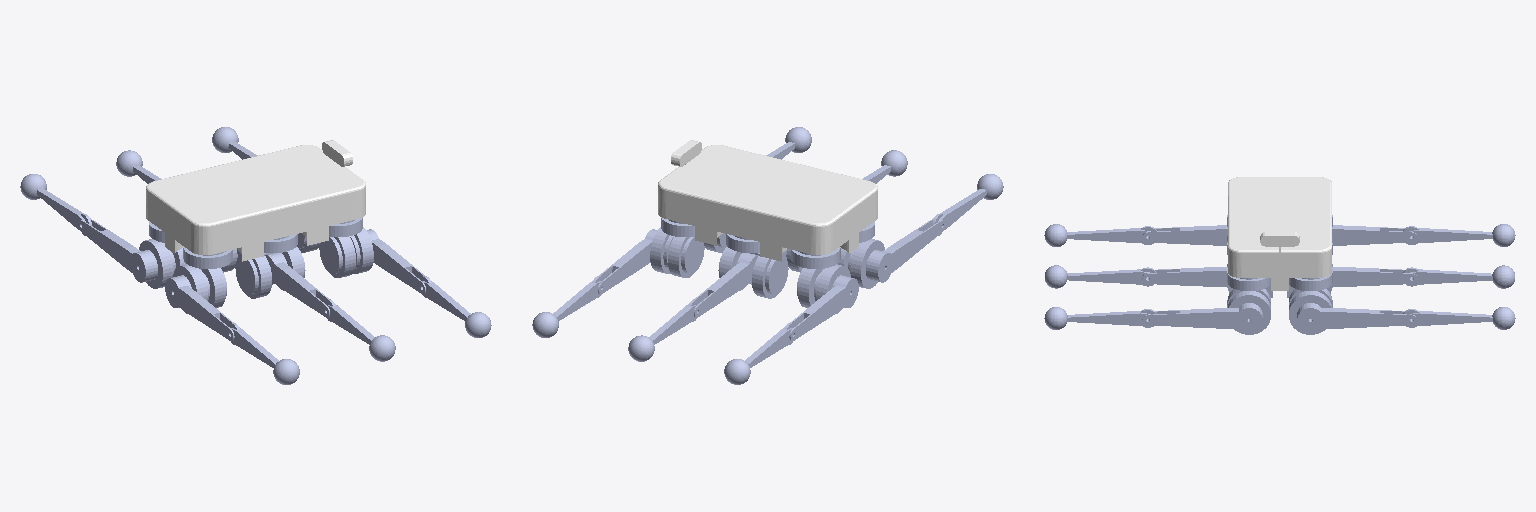
--- Facts derived from the render (not from the file) ---
The picture shows the robot from 3 angles, left to right: view 1: azimuth 30°, elevation 25°; view 2: azimuth 150°, elevation 25°; view 3: azimuth 270°, elevation 25°; orthographic projection.
Robot: hexapod_description2 — 19 links, 18 joints (18 continuous); root link base_link; default pose: all joints at 0.
Visible links, largest first — view 1: base_link, rfl2, rml8, rbl14, lbl17, rbl15, rml9, rfl3, lbl18, lfl6, lml12, rbl13; view 2: base_link, lfl5, lml11, lbl17, rbl14, lfl6, lml12, lbl18, rbl15, rml9, rfl3, lbl16; view 3: base_link, rfl2, lfl5, rml8, lml11, rbl14, lbl17, lml12, rml9, rbl15, lbl18, rfl3 (+1 smaller).
Link boxes in pixels (x1=…): base_link: x1=146, y1=140, x2=365, y2=261; rfl2: x1=319, y1=227, x2=425, y2=293; rml8: x1=235, y1=247, x2=335, y2=317; rbl14: x1=165, y1=264, x2=239, y2=340; lbl17: x1=78, y1=218, x2=185, y2=288; rbl15: x1=228, y1=323, x2=299, y2=384; rml9: x1=324, y1=299, x2=395, y2=361; rfl3: x1=420, y1=276, x2=491, y2=337; lbl18: x1=20, y1=174, x2=91, y2=235; lfl6: x1=212, y1=127, x2=257, y2=159; lml12: x1=116, y1=150, x2=160, y2=183; rbl13: x1=183, y1=247, x2=232, y2=268; base_link: x1=658, y1=140, x2=877, y2=261; lfl5: x1=598, y1=227, x2=704, y2=293; lml11: x1=688, y1=247, x2=788, y2=317; lbl17: x1=784, y1=264, x2=858, y2=340; rbl14: x1=838, y1=218, x2=945, y2=288; lfl6: x1=532, y1=276, x2=603, y2=337; lml12: x1=628, y1=299, x2=699, y2=361; lbl18: x1=724, y1=323, x2=795, y2=384; rbl15: x1=932, y1=174, x2=1003, y2=235; rml9: x1=863, y1=150, x2=907, y2=183; rfl3: x1=766, y1=127, x2=811, y2=159; lbl16: x1=791, y1=247, x2=840, y2=268; base_link: x1=1228, y1=177, x2=1331, y2=290; rfl2: x1=1142, y1=289, x2=1270, y2=334; lfl5: x1=1289, y1=289, x2=1417, y2=334; rml8: x1=1142, y1=264, x2=1272, y2=297; lml11: x1=1287, y1=264, x2=1417, y2=297; rbl14: x1=1142, y1=225, x2=1227, y2=245; lbl17: x1=1332, y1=225, x2=1417, y2=245; lml12: x1=1403, y1=265, x2=1514, y2=288; rml9: x1=1045, y1=265, x2=1156, y2=288; rbl15: x1=1044, y1=224, x2=1156, y2=246; lbl18: x1=1403, y1=224, x2=1515, y2=246; rfl3: x1=1044, y1=307, x2=1156, y2=329.
Bounding box of the posed robot: 0.4681 × 1 × 0.2315 m (x, y, z).
Meshes: 19 distinct files referenced, 19 mesh visuals loaded (19 binary STL).

URDF robot description (hexapod_description2):
<?xml version="1.0" encoding="utf-8"?>
<!-- This URDF was automatically created by SolidWorks to URDF Exporter! Originally created by Stephen Brawner ([email redacted]) 
     Commit Version: 1.6.0-4-g7f85cfe  Build Version: 1.6.7995.38578
     For more information, please see http://wiki.ros.org/sw_urdf_exporter -->
<robot
  name="hexapod_description2">
  <link
    name="base_link">
    <inertial>
      <origin
        xyz="0.0012365 5.5511E-17 0.028671"
        rpy="0 0 0" />
      <mass
        value="16" />
      <inertia
        ixx="1"
        ixy="0"
        ixz="0"
        iyy="1"
        iyz="0"
        izz="1" />
    </inertial>

    <visual>
      <origin
        xyz="0 0 0"
        rpy="0 0 0" />
      <geometry>
        <mesh
          filename="package://hexapod_description2/meshes/base_link.STL" />
      </geometry>
      <material
        name="">
        <color
          rgba="1 1 1 1" />
      </material>
    </visual>
    <collision>
      <origin
        xyz="0 0 0"
        rpy="0 0 0" />
      <geometry>
        <mesh
          filename="package://hexapod_description2/meshes/base_link.STL" />
      </geometry>
    </collision>
  </link>
  <link
    name="rfl1">
    <inertial>
      <origin
        xyz="0 0 0.0013145"
        rpy="0 0 0" />
      <mass
        value="0.1" />
      <inertia
        ixx="0.1"
        ixy="0"
        ixz="0"
        iyy="0.1"
        iyz="0"
        izz="0.1" />
    </inertial>
    <visual>
      <origin
        xyz="0 0 0"
        rpy="0 0 0" />
      <geometry>
        <mesh
          filename="package://hexapod_description2/meshes/rfl1.STL" />
      </geometry>
      <material
        name="">
        <color
          rgba="0.79216 0.81961 0.93333 1" />
      </material>
    </visual>
    <collision>
      <origin
        xyz="0 0 0"
        rpy="0 0 0" />
      <geometry>
        <mesh
          filename="package://hexapod_description2/meshes/rfl1.STL" />
      </geometry>
    </collision>
  </link>
  <joint
    name="rfj1"
    type="continuous">
    <origin
      xyz="0.14185 -0.0655 -0.01975"
      rpy="0 0 0" />
    <parent
      link="base_link" />
    <child
      link="rfl1" />
    <axis
      xyz="0 0 -1" />
                            <limit
      lower="-6"
      upper="6"
      effort="100"
      velocity="10" />
                 <dynamics
      damping="0.1"
       friction="0.01"
    />
  </joint>
  <link
    name="rfl2">
    <inertial>
      <origin
        xyz="-0.032218 -0.0039271 6.5321E-07"
        rpy="0 0 0" />
      <mass
        value="0.1" />
      <inertia
        ixx="0.1"
        ixy="0"
        ixz="0"
        iyy="0.1"
        iyz="0"
        izz="0.1" />
    </inertial>
    <visual>
      <origin
        xyz="0 0 0"
        rpy="0 0 0" />
      <geometry>
        <mesh
          filename="package://hexapod_description2/meshes/rfl2.STL" />
      </geometry>
      <material
        name="">
        <color
          rgba="0.79216 0.81961 0.93333 1" />
      </material>
    </visual>
    <collision>
      <origin
        xyz="0 0 0"
        rpy="0 0 0" />
      <geometry>
        <mesh
          filename="package://hexapod_description2/meshes/rfl2.STL" />
      </geometry>
    </collision>
  </link>
  <joint
    name="rfj2"
    type="continuous">
    <origin
      xyz="0.0385 0 -0.06575"
      rpy="0 0 0" />
    <parent
      link="rfl1" />
    <child
      link="rfl2" />
    <axis
      xyz="-1 0 0" />
                            <limit
      lower="-6"
      upper="6"
      effort="100"
      velocity="10" />
                 <dynamics
      damping="0.1"
       friction="0.01"
    />
  </joint>
  <link
    name="rfl3">
    <inertial>
      <origin
        xyz="-5.5511E-17 -0.13449 -2.7756E-17"
        rpy="0 0 0" />
      <mass
        value="0.1" />
      <inertia
        ixx="0.1"
        ixy="0"
        ixz="0"
        iyy="0.1"
        iyz="0"
        izz="0.1" />
    </inertial>
    <visual>
      <origin
        xyz="0 0 0"
        rpy="0 0 0" />
      <geometry>
        <mesh
          filename="package://hexapod_description2/meshes/rfl3.STL" />
      </geometry>
      <material
        name="">
        <color
          rgba="0.79216 0.81961 0.93333 1" />
      </material>
    </visual>
    <collision>
      <origin
        xyz="0 0 0"
        rpy="0 0 0" />
      <geometry>
        <mesh
          filename="package://hexapod_description2/meshes/rfl3.STL" />
      </geometry>
    </collision>
  </link>
  <joint
    name="rfj3"
    type="continuous">
    <origin
      xyz="0.02875 -0.216 0"
      rpy="0 0 0" />
    <parent
      link="rfl2" />
    <child
      link="rfl3" />
    <axis
      xyz="1 0 0" />
                            <limit
      lower="-6"
      upper="6"
      effort="100"
      velocity="10" />
                 <dynamics
      damping="0.1"
       friction="0.01"
    />
  </joint>
  <link
    name="lfl4">
    <inertial>
      <origin
        xyz="0 2.7756E-17 0.0013145"
        rpy="0 0 0" />
      <mass
        value="0.1" />
      <inertia
        ixx="0.1"
        ixy="0"
        ixz="0"
        iyy="0.1"
        iyz="0"
        izz="0.1" />
    </inertial>
    <visual>
      <origin
        xyz="0 0 0"
        rpy="0 0 0" />
      <geometry>
        <mesh
          filename="package://hexapod_description2/meshes/lfl4.STL" />
      </geometry>
      <material
        name="">
        <color
          rgba="0.79216 0.81961 0.93333 1" />
      </material>
    </visual>
    <collision>
      <origin
        xyz="0 0 0"
        rpy="0 0 0" />
      <geometry>
        <mesh
          filename="package://hexapod_description2/meshes/lfl4.STL" />
      </geometry>
    </collision>
  </link>
  <joint
    name="lfj4"
    type="continuous">
    <origin
      xyz="0.14185 0.0655 -0.01975"
      rpy="0 0 0" />
    <parent
      link="base_link" />
    <child
      link="lfl4" />
    <axis
      xyz="0 0 -1" />
                            <limit
      lower="-6"
      upper="6"
      effort="100"
      velocity="10" />
                 <dynamics
      damping="0.1"
       friction="0.01"
    />
  </joint>
  <link
    name="lfl5">
    <inertial>
      <origin
        xyz="-0.032218 0.0039271 -6.544E-07"
        rpy="0 0 0" />
      <mass
        value="0.1" />
      <inertia
        ixx="0.1"
        ixy="0"
        ixz="0"
        iyy="0.1"
        iyz="0"
        izz="0.1" />
    </inertial>
    <visual>
      <origin
        xyz="0 0 0"
        rpy="0 0 0" />
      <geometry>
        <mesh
          filename="package://hexapod_description2/meshes/lfl5.STL" />
      </geometry>
      <material
        name="">
        <color
          rgba="0.79216 0.81961 0.93333 1" />
      </material>
    </visual>
    <collision>
      <origin
        xyz="0 0 0"
        rpy="0 0 0" />
      <geometry>
        <mesh
          filename="package://hexapod_description2/meshes/lfl5.STL" />
      </geometry>
    </collision>
  </link>
  <joint
    name="lfj5"
    type="continuous">
    <origin
      xyz="0.0385 0 -0.06575"
      rpy="0 0 0" />
    <parent
      link="lfl4" />
    <child
      link="lfl5" />
    <axis
      xyz="-1 0 0" />
                            <limit
      lower="-6"
      upper="6"
      effort="100"
      velocity="10" />
                 <dynamics
      damping="0.1"
       friction="0.01"
    />
  </joint>
  <link
    name="lfl6">
    <inertial>
      <origin
        xyz="-3.2585E-14 0.13449 0.00015249"
        rpy="0 0 0" />
      <mass
        value="0.1" />
      <inertia
        ixx="0.1"
        ixy="0"
        ixz="0"
        iyy="0.1"
        iyz="0"
        izz="0.1" />
    </inertial>
    <visual>
      <origin
        xyz="0 0 0"
        rpy="0 0 0" />
      <geometry>
        <mesh
          filename="package://hexapod_description2/meshes/lfl6.STL" />
      </geometry>
      <material
        name="">
        <color
          rgba="0.79216 0.81961 0.93333 1" />
      </material>
    </visual>
    <collision>
      <origin
        xyz="0 0 0"
        rpy="0 0 0" />
      <geometry>
        <mesh
          filename="package://hexapod_description2/meshes/lfl6.STL" />
      </geometry>
    </collision>
  </link>
  <joint
    name="lfj6"
    type="continuous">
    <origin
      xyz="0.0287500000000004 0.216 0"
      rpy="0 0 0" />
    <parent
      link="lfl5" />
    <child
      link="lfl6" />
    <axis
      xyz="1 0 0" />
                            <limit
      lower="-6"
      upper="6"
      effort="100"
      velocity="10" />
                 <dynamics
      damping="0.1"
       friction="0.01"
    />
  </joint>
  <link
    name="rml7">
    <inertial>
      <origin
        xyz="-0.0017584 -1.3878E-17 0.00056229"
        rpy="0 0 0" />
      <mass
        value="0.1" />
      <inertia
        ixx="0.1"
        ixy="0"
        ixz="0"
        iyy="0.1"
        iyz="0"
        izz="0.1" />
    </inertial>
    <visual>
      <origin
        xyz="0 0 0"
        rpy="0 0 0" />
      <geometry>
        <mesh
          filename="package://hexapod_description2/meshes/rml7.STL" />
      </geometry>
      <material
        name="">
        <color
          rgba="0.79216 0.81961 0.93333 1" />
      </material>
    </visual>
    <collision>
      <origin
        xyz="0 0 0"
        rpy="0 0 0" />
      <geometry>
        <mesh
          filename="package://hexapod_description2/meshes/rml7.STL" />
      </geometry>
    </collision>
  </link>
  <joint
    name="rmj7"
    type="continuous">
    <origin
      xyz="0 -0.0655 -0.01975"
      rpy="0 0 0" />
    <parent
      link="base_link" />
    <child
      link="rml7" />
    <axis
      xyz="0 0 -1" />
                            <limit
      lower="-6"
      upper="6"
      effort="100"
      velocity="10" />
                 <dynamics
      damping="0.1"
       friction="0.01"
    />
  </joint>
  <link
    name="rml8">
    <inertial>
      <origin
        xyz="-0.0587261224930773 -0.000532880509906325 -5.88251406696827E-07"
        rpy="0 0 0" />
      <mass
        value="0.1" />
      <inertia
        ixx="0.1"
        ixy="0"
        ixz="0"
        iyy="0.1"
        iyz="0"
        izz="0.1" />
    </inertial>
    <visual>
      <origin
        xyz="0 0 0"
        rpy="0 0 0" />
      <geometry>
        <mesh
          filename="package://hexapod_description2/meshes/rml8.STL" />
      </geometry>
      <material
        name="">
        <color
          rgba="0.792156862745098 0.819607843137255 0.933333333333333 1" />
      </material>
    </visual>
    <collision>
      <origin
        xyz="0 0 0"
        rpy="0 0 0" />
      <geometry>
        <mesh
          filename="package://hexapod_description2/meshes/rml8.STL" />
      </geometry>
    </collision>
  </link>
  <joint
    name="rmj8"
    type="continuous">
    <origin
      xyz="0.02875 0 -0.06575"
      rpy="0 0 0" />
    <parent
      link="rml7" />
    <child
      link="rml8" />
    <axis
      xyz="1 0 0" />
                            <limit
      lower="-6"
      upper="6"
      effort="100"
      velocity="10" />
                 <dynamics
      damping="0.1"
       friction="0.01"
    />
  </joint>
  <link
    name="rml9">
    <inertial>
      <origin
        xyz="3.25295346215171E-14 -0.134485559698129 0.000152488307947479"
        rpy="0 0 0" />
      <mass
        value="0.1" />
      <inertia
        ixx="0.1"
        ixy="0"
        ixz="0"
        iyy="0.1"
        iyz="0"
        izz="0.1" />
    </inertial>
    <visual>
      <origin
        xyz="0 0 0"
        rpy="0 0 0" />
      <geometry>
        <mesh
          filename="package://hexapod_description2/meshes/rml9.STL" />
      </geometry>
      <material
        name="">
        <color
          rgba="0.792156862745098 0.819607843137255 0.933333333333333 1" />
      </material>
    </visual>
    <collision>
      <origin
        xyz="0 0 0"
        rpy="0 0 0" />
      <geometry>
        <mesh
          filename="package://hexapod_description2/meshes/rml9.STL" />
      </geometry>
    </collision>
  </link>
  <joint
    name="rmj9"
    type="continuous">
    <origin
      xyz="-0.02875 -0.216 0"
      rpy="0 0 0" />
    <parent
      link="rml8" />
    <child
      link="rml9" />
    <axis
      xyz="-1 0 0" />
                            <limit
      lower="-6"
      upper="6"
      effort="100"
      velocity="10" />
                 <dynamics
      damping="0.1"
       friction="0.01"
    />
  </joint>
  <link
    name="lml10">
    <inertial>
      <origin
        xyz="-0.0017584 -2.7756E-17 0.00056229"
        rpy="0 0 0" />
      <mass
        value="0.1" />
      <inertia
        ixx="0.1"
        ixy="0"
        ixz="0"
        iyy="0.1"
        iyz="0"
        izz="0.1" />
    </inertial>
    <visual>
      <origin
        xyz="0 0 0"
        rpy="0 0 0" />
      <geometry>
        <mesh
          filename="package://hexapod_description2/meshes/lml10.STL" />
      </geometry>
      <material
        name="">
        <color
          rgba="0.79216 0.81961 0.93333 1" />
      </material>
    </visual>
    <collision>
      <origin
        xyz="0 0 0"
        rpy="0 0 0" />
      <geometry>
        <mesh
          filename="package://hexapod_description2/meshes/lml10.STL" />
      </geometry>
    </collision>
  </link>
  <joint
    name="lmj10"
    type="continuous">
    <origin
      xyz="0 0.0655 -0.01975"
      rpy="0 0 0" />
    <parent
      link="base_link" />
    <child
      link="lml10" />
    <axis
      xyz="0 0 -1" />
                            <limit
      lower="-6"
      upper="6"
      effort="100"
      velocity="10" />
                 <dynamics
      damping="0.1"
       friction="0.01"
    />
  </joint>
  <link
    name="lml11">
    <inertial>
      <origin
        xyz="-0.0587261224930773 0.000532880509906242 5.88251406696827E-07"
        rpy="0 0 0" />
      <mass
        value="0.1" />
      <inertia
        ixx="0.1"
        ixy="0"
        ixz="0"
        iyy="0.1"
        iyz="0"
        izz="0.1" />
    </inertial>
    <visual>
      <origin
        xyz="0 0 0"
        rpy="0 0 0" />
      <geometry>
        <mesh
          filename="package://hexapod_description2/meshes/lml11.STL" />
      </geometry>
      <material
        name="">
        <color
          rgba="0.792156862745098 0.819607843137255 0.933333333333333 1" />
      </material>
    </visual>
    <collision>
      <origin
        xyz="0 0 0"
        rpy="0 0 0" />
      <geometry>
        <mesh
          filename="package://hexapod_description2/meshes/lml11.STL" />
      </geometry>
    </collision>
  </link>
  <joint
    name="lmj11"
    type="continuous">
    <origin
      xyz="0.02875 0 -0.06575"
      rpy="0 0 0" />
    <parent
      link="lml10" />
    <child
      link="lml11" />
    <axis
      xyz="1 0 0" />
                            <limit
      lower="-6"
      upper="6"
      effort="100"
      velocity="10" />
                 <dynamics
      damping="0.1"
       friction="0.01"
    />
  </joint>
  <link
    name="lml12">
    <inertial>
      <origin
        xyz="3.26960680752109E-14 0.134485559698129 -0.000152488307947535"
        rpy="0 0 0" />
      <mass
        value="0.1" />
      <inertia
        ixx="0.1"
        ixy="0"
        ixz="0"
        iyy="0.1"
        iyz="0"
        izz="0.1" />
    </inertial>
    <visual>
      <origin
        xyz="0 0 0"
        rpy="0 0 0" />
      <geometry>
        <mesh
          filename="package://hexapod_description2/meshes/lml12.STL" />
      </geometry>
      <material
        name="">
        <color
          rgba="0.792156862745098 0.819607843137255 0.933333333333333 1" />
      </material>
    </visual>
    <collision>
      <origin
        xyz="0 0 0"
        rpy="0 0 0" />
      <geometry>
        <mesh
          filename="package://hexapod_description2/meshes/lml12.STL" />
      </geometry>
    </collision>
  </link>
  <joint
    name="lmj12"
    type="continuous">
    <origin
      xyz="-0.02875 0.216 0"
      rpy="0 0 0" />
    <parent
      link="lml11" />
    <child
      link="lml12" />
    <axis
      xyz="-1 0 0" />
                            <limit
      lower="-6"
      upper="6"
      effort="100"
      velocity="10" />
                 <dynamics
      damping="0.1"
       friction="0.01"
    />
  </joint>
  <link
    name="rbl13">
    <inertial>
      <origin
        xyz="0 0 0.0013145"
        rpy="0 0 0" />
      <mass
        value="0.1" />
      <inertia
        ixx="0.1"
        ixy="0"
        ixz="0"
        iyy="0.1"
        iyz="0"
        izz="0.1" />
    </inertial>
    <visual>
      <origin
        xyz="0 0 0"
        rpy="0 0 0" />
      <geometry>
        <mesh
          filename="package://hexapod_description2/meshes/rbl13.STL" />
      </geometry>
      <material
        name="">
        <color
          rgba="0.79216 0.81961 0.93333 1" />
      </material>
    </visual>
    <collision>
      <origin
        xyz="0 0 0"
        rpy="0 0 0" />
      <geometry>
        <mesh
          filename="package://hexapod_description2/meshes/rbl13.STL" />
      </geometry>
    </collision>
  </link>
  <joint
    name="rbj13"
    type="continuous">
    <origin
      xyz="-0.14185 -0.0655 -0.01975"
      rpy="0 0 0" />
    <parent
      link="base_link" />
    <child
      link="rbl13" />
    <axis
      xyz="0 0 -1" />
                            <limit
      lower="-6"
      upper="6"
      effort="100"
      velocity="10" />
                 <dynamics
      damping="0.1"
       friction="0.01"
    />
  </joint>
  <link
    name="rbl14">
    <inertial>
      <origin
        xyz="0.032218 -0.0039271 -6.544E-07"
        rpy="0 0 0" />
      <mass
        value="0.1" />
      <inertia
        ixx="0.1"
        ixy="0"
        ixz="0"
        iyy="0.1"
        iyz="0"
        izz="0.1" />
    </inertial>
    <visual>
      <origin
        xyz="0 0 0"
        rpy="0 0 0" />
      <geometry>
        <mesh
          filename="package://hexapod_description2/meshes/rbl14.STL" />
      </geometry>
      <material
        name="">
        <color
          rgba="0.79216 0.81961 0.93333 1" />
      </material>
    </visual>
    <collision>
      <origin
        xyz="0 0 0"
        rpy="0 0 0" />
      <geometry>
        <mesh
          filename="package://hexapod_description2/meshes/rbl14.STL" />
      </geometry>
    </collision>
  </link>
  <joint
    name="rbj14"
    type="continuous">
    <origin
      xyz="-0.0385 0 -0.06575"
      rpy="0 0 0" />
    <parent
      link="rbl13" />
    <child
      link="rbl14" />
    <axis
      xyz="1 0 0" />
                            <limit
      lower="-6"
      upper="6"
      effort="100"
      velocity="10" />
                 <dynamics
      damping="0.1"
       friction="0.01"
    />
  </joint>
  <link
    name="rbl15">
    <inertial>
      <origin
        xyz="-9.77E-15 -0.13449 -4.4688E-05"
        rpy="0 0 0" />
      <mass
        value="0.1" />
      <inertia
        ixx="0.1"
        ixy="0"
        ixz="0"
        iyy="0.1"
        iyz="0"
        izz="0.1" />
    </inertial>
    <visual>
      <origin
        xyz="0 0 0"
        rpy="0 0 0" />
      <geometry>
        <mesh
          filename="package://hexapod_description2/meshes/rbl15.STL" />
      </geometry>
      <material
        name="">
        <color
          rgba="0.79216 0.81961 0.93333 1" />
      </material>
    </visual>
    <collision>
      <origin
        xyz="0 0 0"
        rpy="0 0 0" />
      <geometry>
        <mesh
          filename="package://hexapod_description2/meshes/rbl15.STL" />
      </geometry>
    </collision>
  </link>
  <joint
    name="rbj15"
    type="continuous">
    <origin
      xyz="-0.02875 -0.216 0"
      rpy="0 0 0" />
    <parent
      link="rbl14" />
    <child
      link="rbl15" />
    <axis
      xyz="-1 0 0" />
                            <limit
      lower="-6"
      upper="6"
      effort="100"
      velocity="10" />
                 <dynamics
      damping="0.1"
       friction="0.01"
    />
  </joint>
  <link
    name="lbl16">
    <inertial>
      <origin
        xyz="0 0 0.0013145"
        rpy="0 0 0" />
      <mass
        value="0.1" />
      <inertia
        ixx="0.1"
        ixy="0"
        ixz="0"
        iyy="0.1"
        iyz="0"
        izz="0.1" />
    </inertial>
    <visual>
      <origin
        xyz="0 0 0"
        rpy="0 0 0" />
      <geometry>
        <mesh
          filename="package://hexapod_description2/meshes/lbl16.STL" />
      </geometry>
      <material
        name="">
        <color
          rgba="0.79216 0.81961 0.93333 1" />
      </material>
    </visual>
    <collision>
      <origin
        xyz="0 0 0"
        rpy="0 0 0" />
      <geometry>
        <mesh
          filename="package://hexapod_description2/meshes/lbl16.STL" />
      </geometry>
    </collision>
  </link>
  <joint
    name="lbj16"
    type="continuous">
    <origin
      xyz="-0.14185 0.0655 -0.01975"
      rpy="0 0 0" />
    <parent
      link="base_link" />
    <child
      link="lbl16" />
    <axis
      xyz="0 0 -1" />
                            <limit
      lower="-6"
      upper="6"
      effort="100"
      velocity="10" />
                 <dynamics
      damping="0.1"
       friction="0.01"
    />
  </joint>
  <link
    name="lbl17">
    <inertial>
      <origin
        xyz="0.032218 0.0039271 6.5321E-07"
        rpy="0 0 0" />
      <mass
        value="0.1" />
      <inertia
        ixx="0.1"
        ixy="0"
        ixz="0"
        iyy="0.1"
        iyz="0"
        izz="0.1" />
    </inertial>
    <visual>
      <origin
        xyz="0 0 0"
        rpy="0 0 0" />
      <geometry>
        <mesh
          filename="package://hexapod_description2/meshes/lbl17.STL" />
      </geometry>
      <material
        name="">
        <color
          rgba="0.79216 0.81961 0.93333 1" />
      </material>
    </visual>
    <collision>
      <origin
        xyz="0 0 0"
        rpy="0 0 0" />
      <geometry>
        <mesh
          filename="package://hexapod_description2/meshes/lbl17.STL" />
      </geometry>
    </collision>
  </link>
  <joint
    name="lbj17"
    type="continuous">
    <origin
      xyz="-0.0385 0 -0.06575"
      rpy="0 0 0" />
    <parent
      link="lbl16" />
    <child
      link="lbl17" />
    <axis
      xyz="1 0 0" />
                            <limit
      lower="-6"
      upper="6"
      effort="100"
      velocity="10" />
                 <dynamics
      damping="0.1"
       friction="0.01"
    />
  </joint>
  <link
    name="lbl18">
    <inertial>
      <origin
        xyz="-2.3759E-14 0.13449 0.00011183"
        rpy="0 0 0" />
      <mass
        value="0.1" />
      <inertia
        ixx="0.1"
        ixy="0"
        ixz="0"
        iyy="0.1"
        iyz="0"
        izz="0.1" />
    </inertial>
    <visual>
      <origin
        xyz="0 0 0"
        rpy="0 0 0" />
      <geometry>
        <mesh
          filename="package://hexapod_description2/meshes/lbl18.STL" />
      </geometry>
      <material
        name="">
        <color
          rgba="0.79216 0.81961 0.93333 1" />
      </material>
    </visual>
    <collision>
      <origin
        xyz="0 0 0"
        rpy="0 0 0" />
      <geometry>
        <mesh
          filename="package://hexapod_description2/meshes/lbl18.STL" />
      </geometry>
    </collision>
  </link>
  <joint
    name="lbj18"
    type="continuous">
    <origin
      xyz="-0.02875 0.216 0"
      rpy="0 0 0" />
    <parent
      link="lbl17" />
    <child
      link="lbl18" />
    <axis
      xyz="-1 0 0" />
                            <limit
      lower="-6"
      upper="6"
      effort="100"
      velocity="10" />
                 <dynamics
      damping="0.1"
       friction="0.01"
    />
  </joint>

<transmission name="trans_lfj4">
        <type>transmission_interface/SimpleTransmission</type>
        <joint name="lfj4">
            <hardwareInterface>hardware_interface/EffortJointInterface</hardwareInterface>
        </joint>
        <actuator name="lfj4_motor">
            <hardwareInterface>hardware_interface/EffortJointInterface</hardwareInterface>
            <mechanicalReduction>1</mechanicalReduction>
        </actuator>
    </transmission>

<transmission name="trans_lfj5">
        <type>transmission_interface/SimpleTransmission</type>
        <joint name="lfj5">
            <hardwareInterface>hardware_interface/EffortJointInterface</hardwareInterface>
        </joint>
        <actuator name="lfj5_motor">
            <hardwareInterface>hardware_interface/EffortJointInterface</hardwareInterface>
            <mechanicalReduction>1</mechanicalReduction>
        </actuator>
    </transmission>

<transmission name="trans_lfj6">
        <type>transmission_interface/SimpleTransmission</type>
        <joint name="lfj6">
            <hardwareInterface>hardware_interface/EffortJointInterface</hardwareInterface>
        </joint>
        <actuator name="lfj6_motor">
            <hardwareInterface>hardware_interface/EffortJointInterface</hardwareInterface>
            <mechanicalReduction>1</mechanicalReduction>
        </actuator>
    </transmission>

<transmission name="trans_rfj1">
        <type>transmission_interface/SimpleTransmission</type>
        <joint name="rfj1">
            <hardwareInterface>hardware_interface/EffortJointInterface</hardwareInterface>
        </joint>
        <actuator name="rfj1_motor">
            <hardwareInterface>hardware_interface/EffortJointInterface</hardwareInterface>
            <mechanicalReduction>1</mechanicalReduction>
        </actuator>
    </transmission>

<transmission name="trans_rfj2">
        <type>transmission_interface/SimpleTransmission</type>
        <joint name="rfj2">
            <hardwareInterface>hardware_interface/EffortJointInterface</hardwareInterface>
        </joint>
        <actuator name="rfj2_motor">
            <hardwareInterface>hardware_interface/EffortJointInterface</hardwareInterface>
            <mechanicalReduction>1</mechanicalReduction>
        </actuator>
    </transmission>

<transmission name="trans_rfj3">
        <type>transmission_interface/SimpleTransmission</type>
        <joint name="rfj3">
            <hardwareInterface>hardware_interface/EffortJointInterface</hardwareInterface>
        </joint>
        <actuator name="rfj3_motor">
            <hardwareInterface>hardware_interface/EffortJointInterface</hardwareInterface>
            <mechanicalReduction>1</mechanicalReduction>
        </actuator>
    </transmission>

<transmission name="trans_rmj7">
        <type>transmission_interface/SimpleTransmission</type>
        <joint name="rmj7">
            <hardwareInterface>hardware_interface/EffortJointInterface</hardwareInterface>
        </joint>
        <actuator name="rmj7_motor">
            <hardwareInterface>hardware_interface/EffortJointInterface</hardwareInterface>
            <mechanicalReduction>1</mechanicalReduction>
        </actuator>
    </transmission>

<transmission name="trans_rmj8">
        <type>transmission_interface/SimpleTransmission</type>
        <joint name="rmj8">
            <hardwareInterface>hardware_interface/EffortJointInterface</hardwareInterface>
        </joint>
        <actuator name="rmj8_motor">
            <hardwareInterface>hardware_interface/EffortJointInterface</hardwareInterface>
            <mechanicalReduction>1</mechanicalReduction>
        </actuator>
    </transmission>

<transmission name="trans_rmj9">
        <type>transmission_interface/SimpleTransmission</type>
        <joint name="rmj9">
            <hardwareInterface>hardware_interface/EffortJointInterface</hardwareInterface>
        </joint>
        <actuator name="rmj9_motor">
            <hardwareInterface>hardware_interface/EffortJointInterface</hardwareInterface>
            <mechanicalReduction>1</mechanicalReduction>
        </actuator>
    </transmission>

<transmission name="trans_lmj10">
        <type>transmission_interface/SimpleTransmission</type>
        <joint name="lmj10">
            <hardwareInterface>hardware_interface/EffortJointInterface</hardwareInterface>
        </joint>
        <actuator name="lmj10_motor">
            <hardwareInterface>hardware_interface/EffortJointInterface</hardwareInterface>
            <mechanicalReduction>1</mechanicalReduction>
        </actuator>
    </transmission>

<transmission name="trans_lmj11">
        <type>transmission_interface/SimpleTransmission</type>
        <joint name="lmj11">
            <hardwareInterface>hardware_interface/EffortJointInterface</hardwareInterface>
        </joint>
        <actuator name="lmj11_motor">
            <hardwareInterface>hardware_interface/EffortJointInterface</hardwareInterface>
            <mechanicalReduction>1</mechanicalReduction>
        </actuator>
    </transmission>

<transmission name="trans_lmj12">
        <type>transmission_interface/SimpleTransmission</type>
        <joint name="lmj12">
            <hardwareInterface>hardware_interface/EffortJointInterface</hardwareInterface>
        </joint>
        <actuator name="lmj12_motor">
            <hardwareInterface>hardware_interface/EffortJointInterface</hardwareInterface>
            <mechanicalReduction>1</mechanicalReduction>
        </actuator>
    </transmission>

<transmission name="trans_rbj13">
        <type>transmission_interface/SimpleTransmission</type>
        <joint name="rbj13">
            <hardwareInterface>hardware_interface/EffortJointInterface</hardwareInterface>
        </joint>
        <actuator name="rbj13_motor">
            <hardwareInterface>hardware_interface/EffortJointInterface</hardwareInterface>
            <mechanicalReduction>1</mechanicalReduction>
        </actuator>
    </transmission>

<transmission name="trans_rbj14">
        <type>transmission_interface/SimpleTransmission</type>
        <joint name="rbj14">
            <hardwareInterface>hardware_interface/EffortJointInterface</hardwareInterface>
        </joint>
        <actuator name="rbj14_motor">
            <hardwareInterface>hardware_interface/EffortJointInterface</hardwareInterface>
            <mechanicalReduction>1</mechanicalReduction>
        </actuator>
    </transmission>

<transmission name="trans_rbj15">
        <type>transmission_interface/SimpleTransmission</type>
        <joint name="rbj15">
            <hardwareInterface>hardware_interface/EffortJointInterface</hardwareInterface>
        </joint>
        <actuator name="rbj15_motor">
            <hardwareInterface>hardware_interface/EffortJointInterface</hardwareInterface>
            <mechanicalReduction>1</mechanicalReduction>
        </actuator>
    </transmission>

<transmission name="trans_lbj16">
        <type>transmission_interface/SimpleTransmission</type>
        <joint name="lbj16">
            <hardwareInterface>hardware_interface/EffortJointInterface</hardwareInterface>
        </joint>
        <actuator name="lbj16_motor">
            <hardwareInterface>hardware_interface/EffortJointInterface</hardwareInterface>
            <mechanicalReduction>1</mechanicalReduction>
        </actuator>
    </transmission>

<transmission name="trans_lbj17">
        <type>transmission_interface/SimpleTransmission</type>
        <joint name="lbj17">
            <hardwareInterface>hardware_interface/EffortJointInterface</hardwareInterface>
        </joint>
        <actuator name="lbj17_motor">
            <hardwareInterface>hardware_interface/EffortJointInterface</hardwareInterface>
            <mechanicalReduction>1</mechanicalReduction>
        </actuator>
    </transmission>

<transmission name="trans_lbj18">
        <type>transmission_interface/SimpleTransmission</type>
        <joint name="lbj18">
            <hardwareInterface>hardware_interface/EffortJointInterface</hardwareInterface>
        </joint>
        <actuator name="lbj18_motor">
            <hardwareInterface>hardware_interface/EffortJointInterface</hardwareInterface>
            <mechanicalReduction>1</mechanicalReduction>
        </actuator>
    </transmission>

  <gazebo>
    <plugin name="imu_plugin" filename="libgazebo_ros_imu.so">
  	  <alwaysOn>true</alwaysOn>
    	<bodyName>base_link</bodyName>
    	<topicName>imu</topicName>
    	<serviceName>imu_service</serviceName>
    	<gaussianNoise>0.0</gaussianNoise>
      <xyzOffset>0 0 0</xyzOffset>
      <rpyOffset>0 0 0</rpyOffset>
      <frameName>base_link</frameName>
    	<updateRate>500.0</updateRate>
    </plugin>

    <plugin name="POS_COM" filename="libgazebo_ros_p3d.so">
      <alwaysOn>true</alwaysOn>
      <updateRate>500.0</updateRate>
      <bodyName>base_link</bodyName>
      <topicName>POS_COM</topicName>
      <gaussianNoise>0.0</gaussianNoise>
      <frameName>map</frameName>
      <xyzOffsets>0 0 0</xyzOffsets>
      <rpyOffsets>0 0 0</rpyOffsets>
    </plugin>
  </gazebo>

  <!-- fix the model  -->
  <!-- <link name="world"/>
  <joint name="fix" type="fixed">
  <origin xyz="0 0 0.5" rpy="0 0 0"/>
  <parent link="world"/>
  <child link="base_link"/> 
  </joint> -->

  <gazebo>
        <plugin name="gazebo_ros_control" filename="libgazebo_ros_control.so">
            <robotNamespace>/hexapod_description2</robotNamespace>
            <robotSimType>gazebo_ros_control/DefaultRobotHWSim</robotSimType>
        </plugin>
  </gazebo>

</robot>
